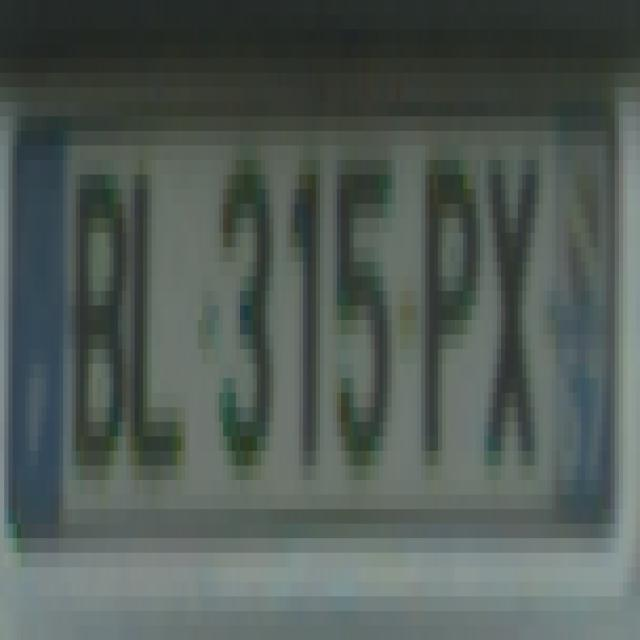EU: (11, 114, 615, 541)
France: (18, 141, 64, 537)
